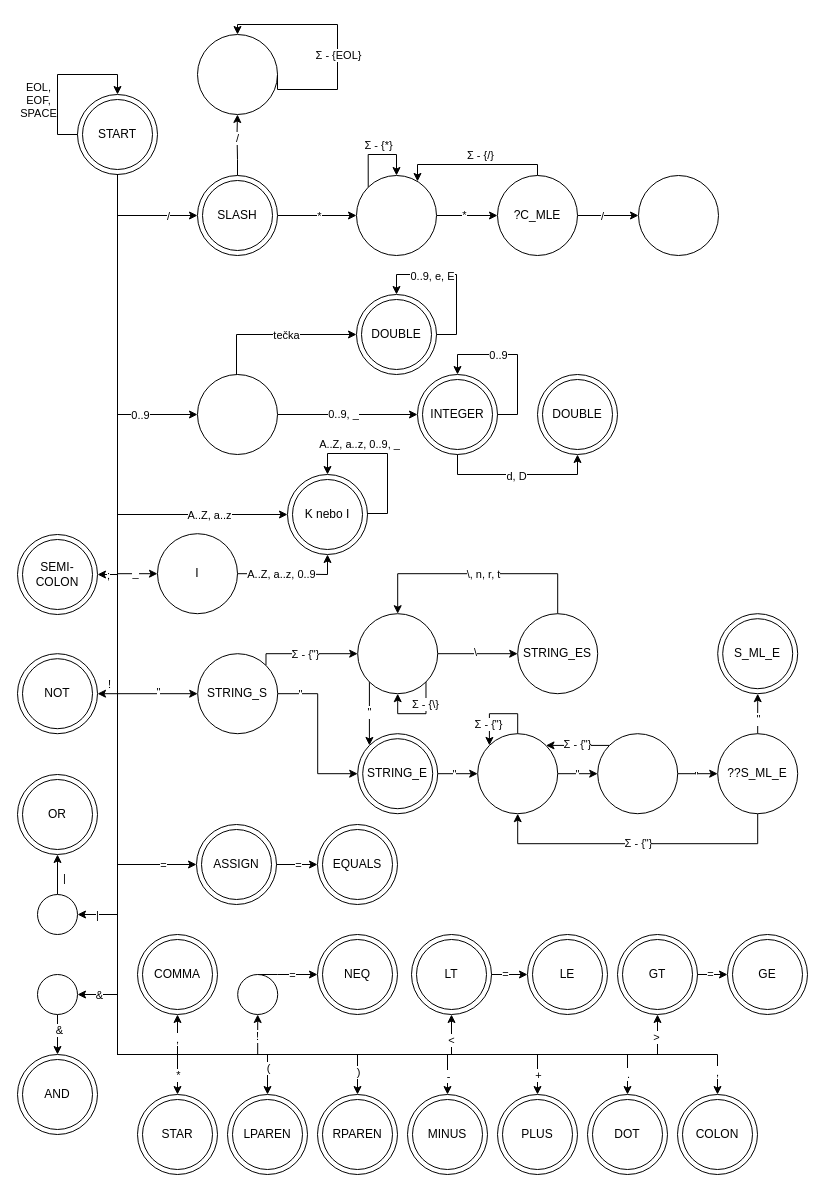
This 825x1192 diagram has some shape labels left out. Here are the shapes that lost their labels. From the top down, the centre of each, then its label:
point 237,74: COMMENT_L
point 396,215: C_MLS
point 678,215: C_MLE
point 237,414: NUMBER
point 397,653: STRING
point 517,773: S_ML
point 637,773: ?S_ML_E
point 57,914: ?OR
point 57,994: ?AND
point 257,994: ?NEQ
